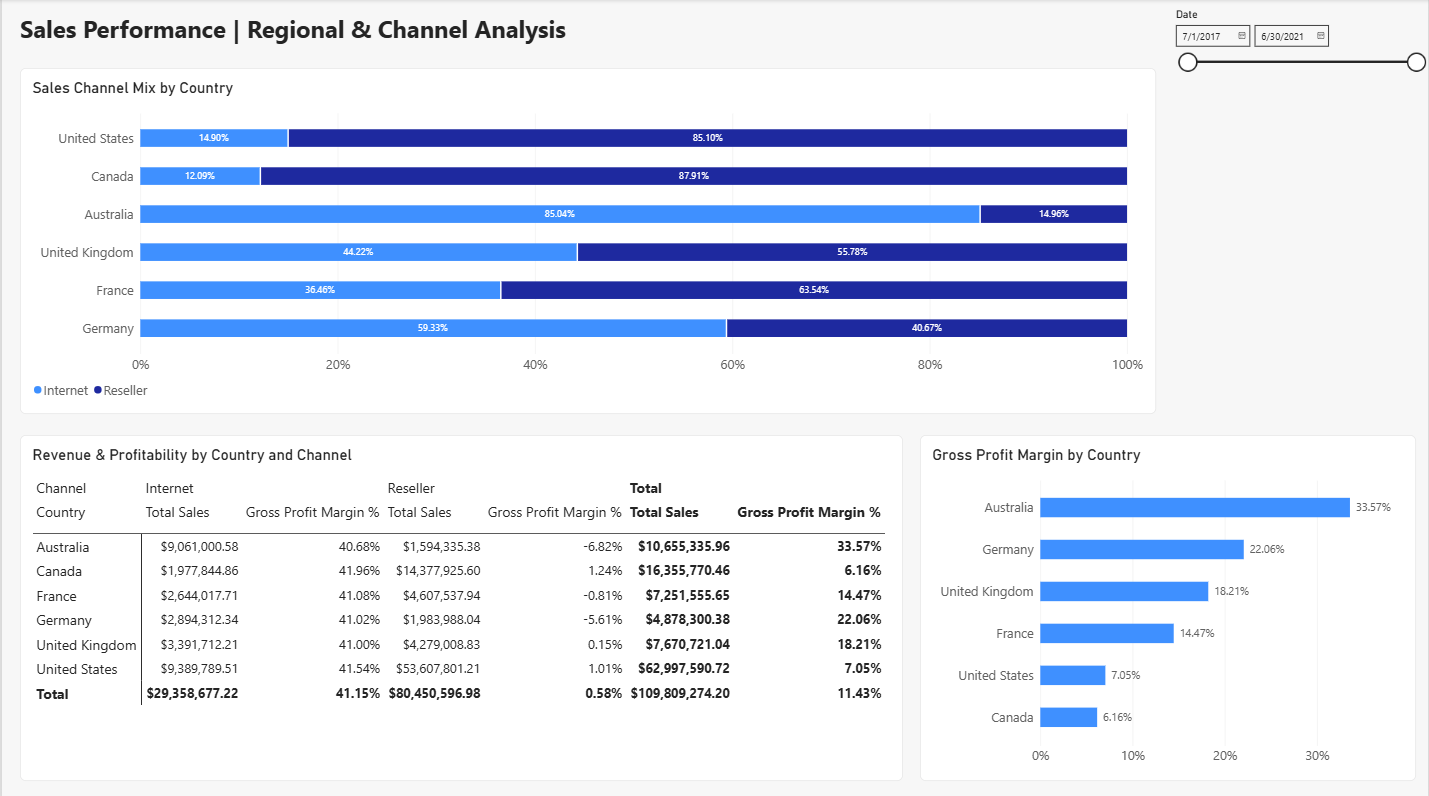

The dashboard page shown, as its layout file describes it:
{"tool":"powerbi","page":{"name":"Regional & Channel Analysis","canvas":[1920,1080],"ordinal":3},"visuals":[{"type":"clusteredBarChart","title":"Gross Profit Margin by Country","fields":{"Category":["SalesTerritory.Country"],"Y":["_Measures.Gross Profit Margin %"]},"box":[1236.2,587.1,667.9,465.9],"z":0},{"type":"pivotTable","title":"Revenue & Profitability by Country and Channel","fields":{"Columns":["SalesOrder.Channel"],"Rows":["SalesTerritory.Country"],"Values":["_Measures.Total Sales","_Measures.Gross Profit Margin %"]},"box":[24.2,587.1,1189.1,465.9],"z":1000},{"type":"slicer","fields":{"Values":["Date.Date"]},"box":[1572.6,12.1,347.4,164.3],"z":1001},{"type":"hundredPercentStackedBarChart","title":"Sales Channel Mix by Country","fields":{"Category":["SalesTerritory.Country"],"Series":["SalesOrder.Channel"],"Y":["_Measures.Total Sales"]},"box":[24.2,92.9,1529.8,465.9],"z":1002},{"type":"textbox","box":[24.2,17.5,754.1,76.8],"z":1003}]}

Visuals, with their boxes in screenshot pixels (x1, y1, x2, y2), scaled from the page's 1920x1080 canvas onto the 1429x796 screenshot:
"Gross Profit Margin by Country" clusteredBarChart: locate(920, 433, 1417, 776)
"Revenue & Profitability by Country and Channel" pivotTable: locate(18, 433, 903, 776)
slicer - Date.Date: locate(1170, 9, 1428, 130)
"Sales Channel Mix by Country" hundredPercentStackedBarChart: locate(18, 68, 1157, 412)
textbox: locate(18, 13, 579, 70)
